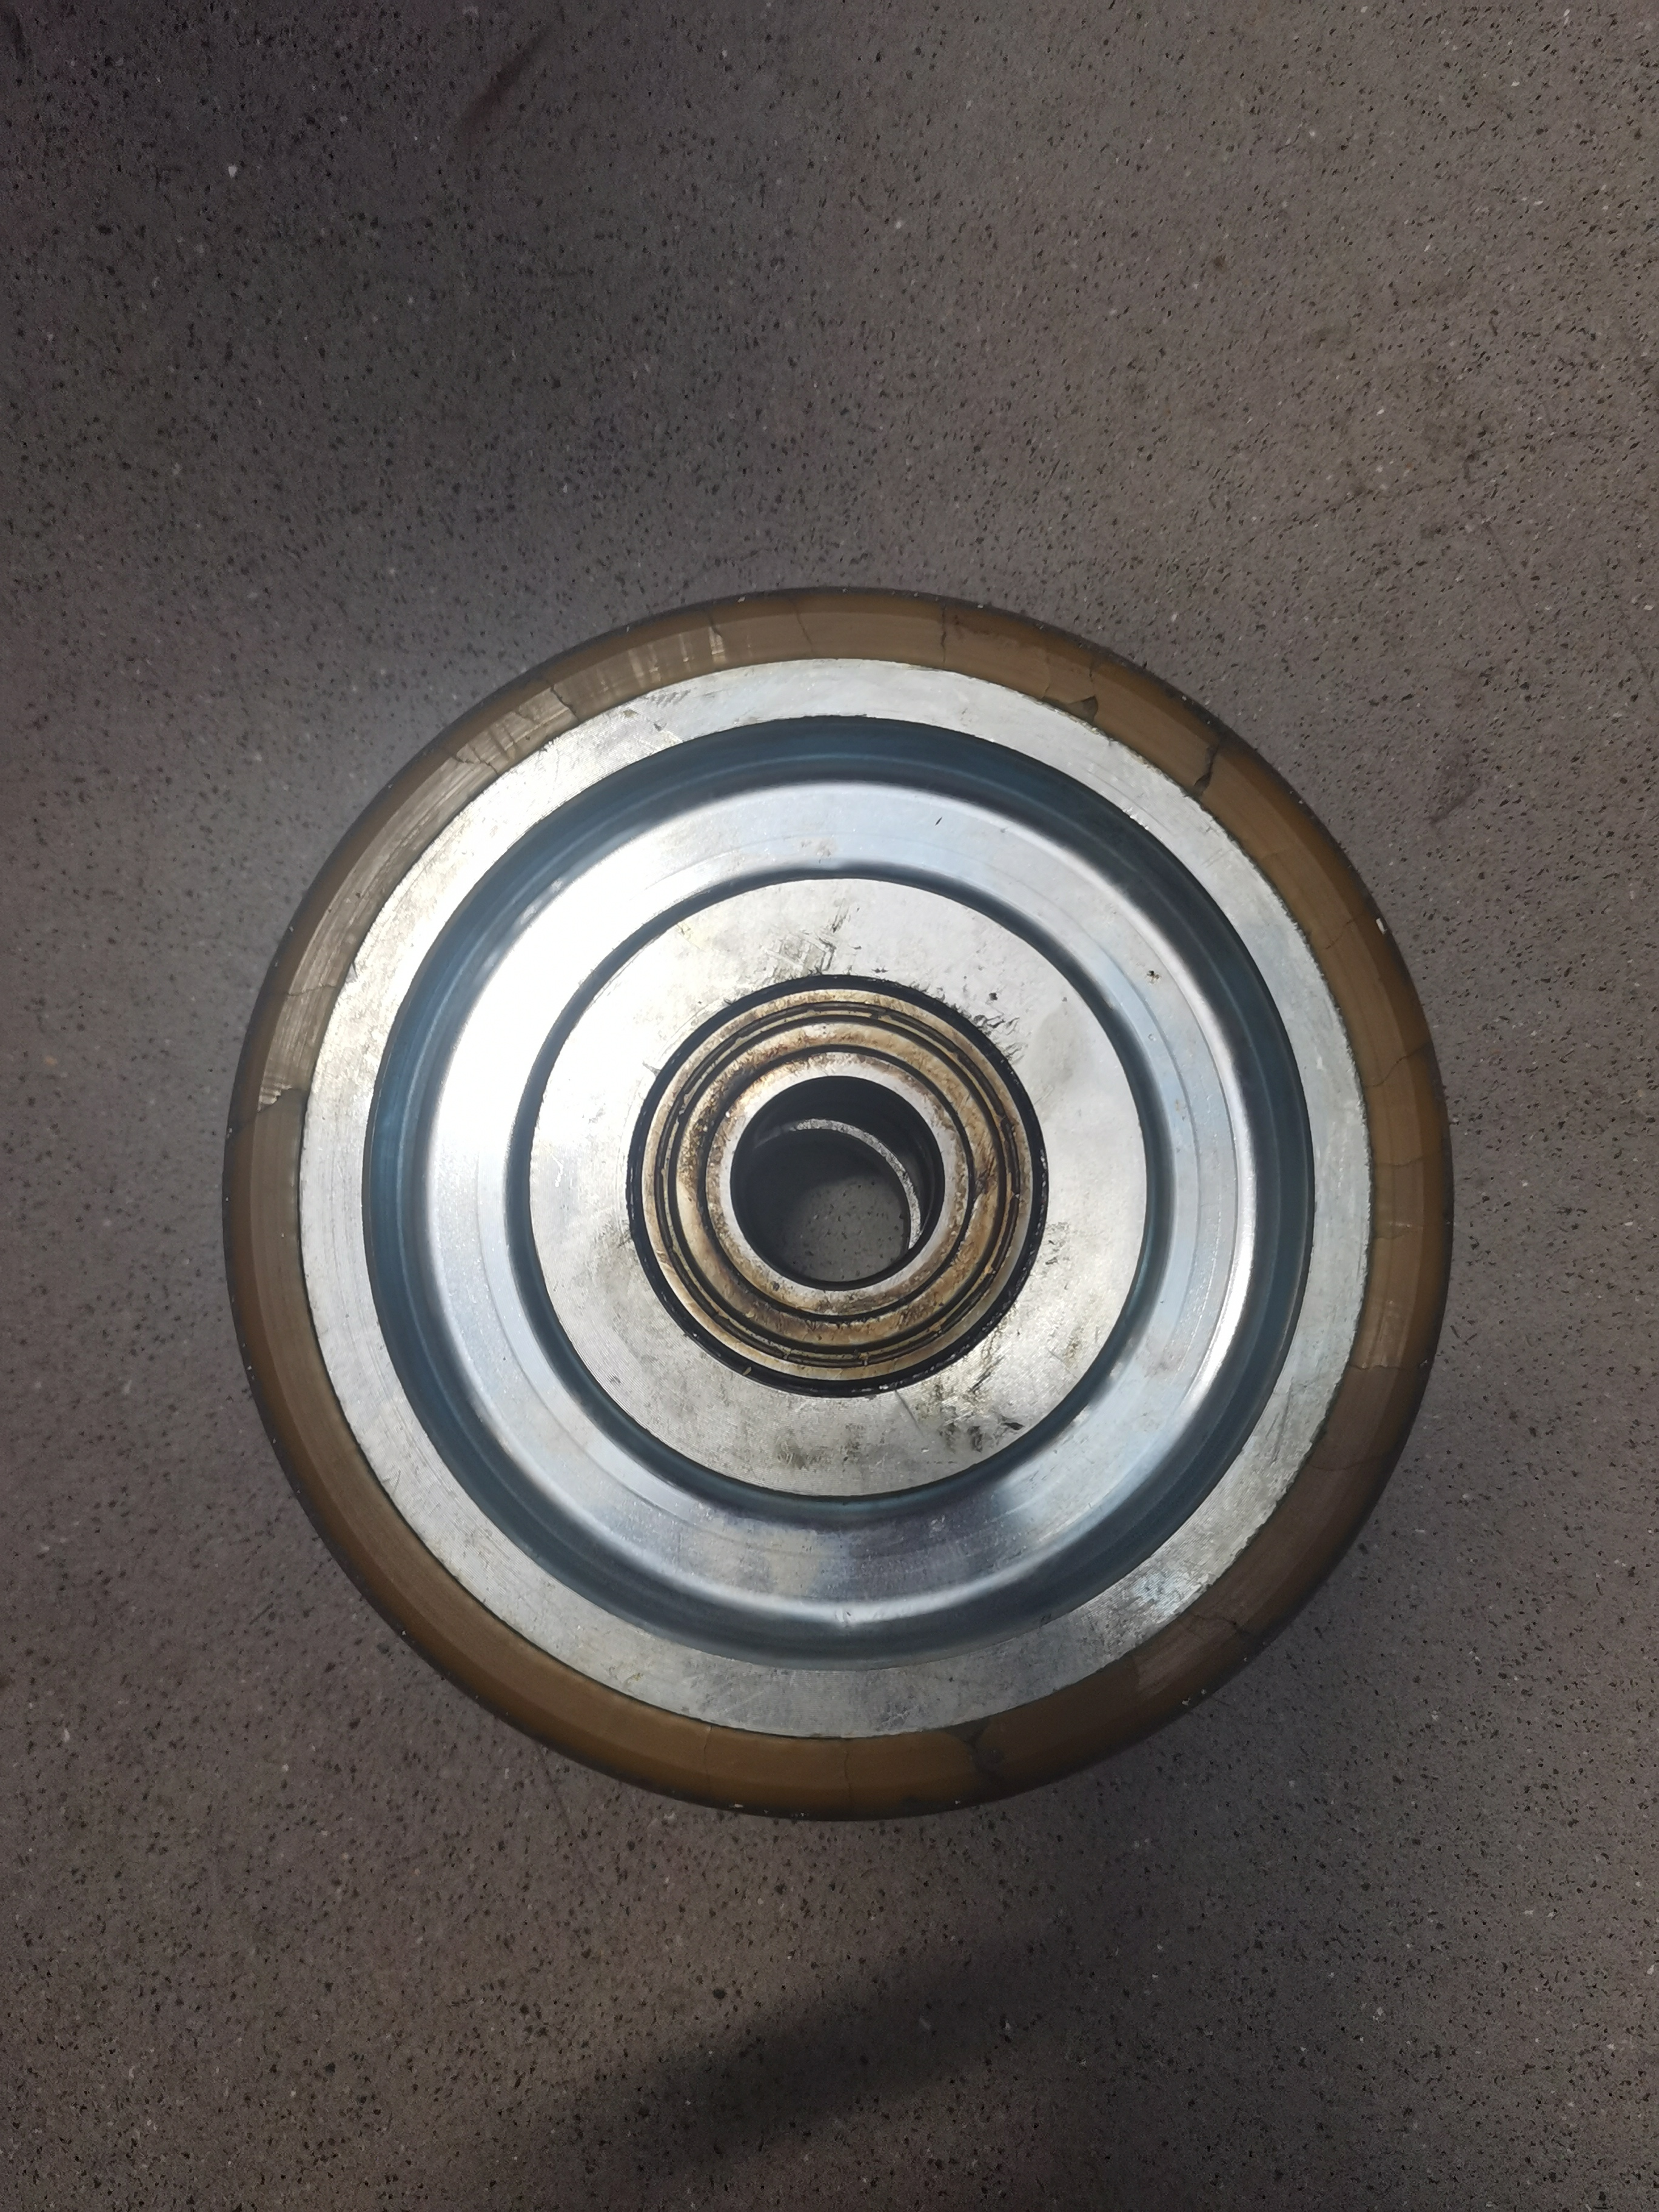bad_wheel: (1164, 664, 1312, 946)
